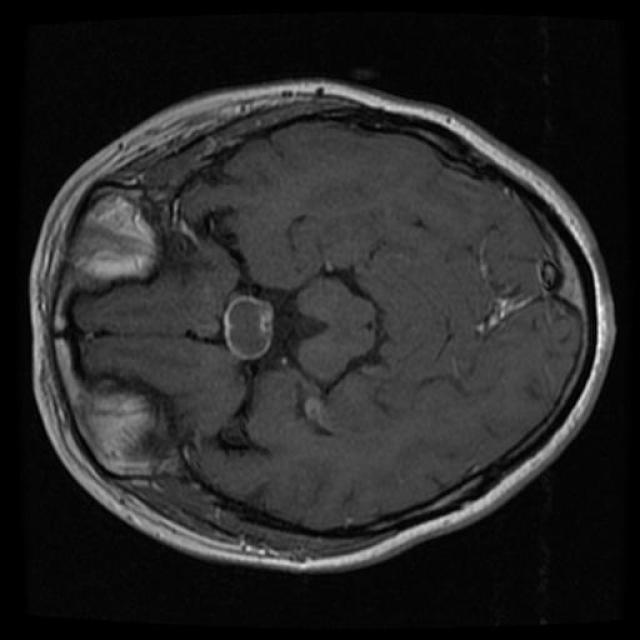Pituitary: (186, 285, 324, 361)
